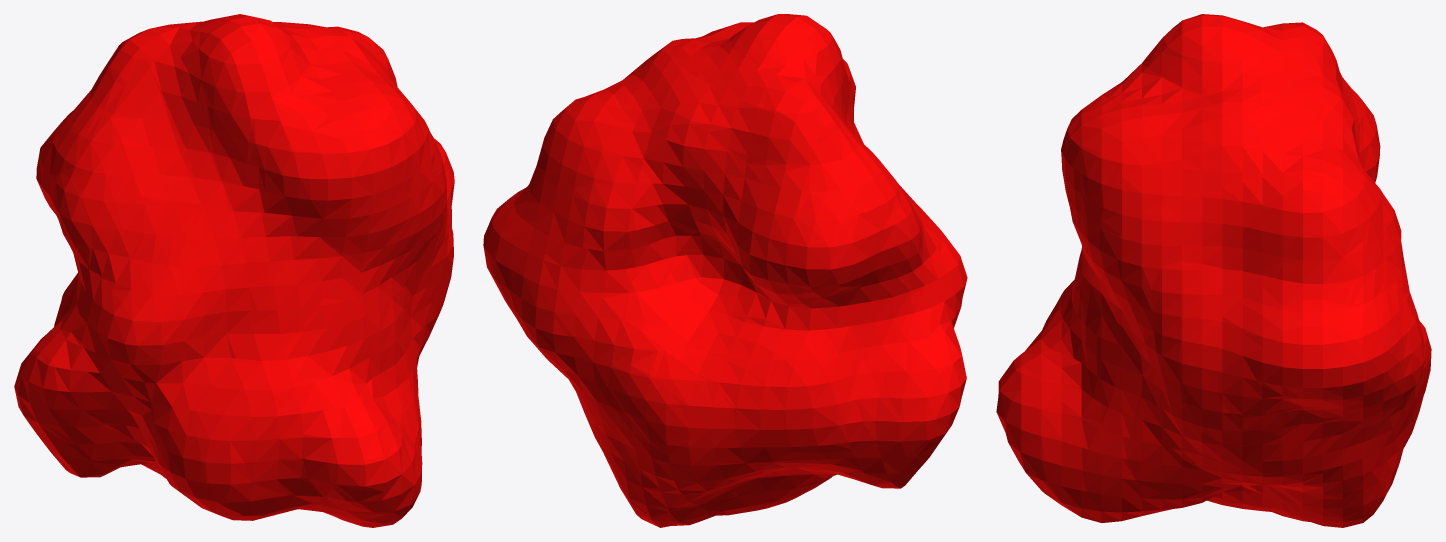
The model's file is tabA_coarse.dae.
3 views of the same model, side by side, from view 1: azimuth 30°, elevation 25°; view 2: azimuth 150°, elevation 25°; view 3: azimuth 270°, elevation 25° (orthographic). The views are drawn at different scales.
Visible parts, largest first — view 1: tabA; view 2: tabA; view 3: tabA.
Boxes of the visible parts, x1=… form: tabA: x1=14, y1=14, x2=454, y2=527; tabA: x1=483, y1=14, x2=967, y2=527; tabA: x1=996, y1=14, x2=1431, y2=527.
Size of the model in its own units: 45.11 by 47.29 by 38.84.
